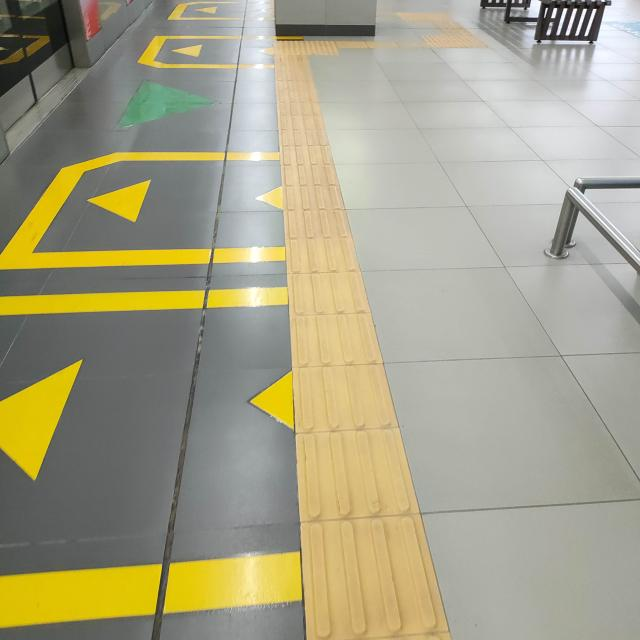kanan: (256, 28, 378, 71)
